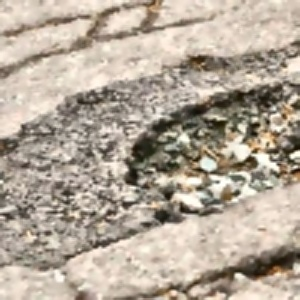pothole: (122, 80, 300, 225), (235, 245, 300, 281)
